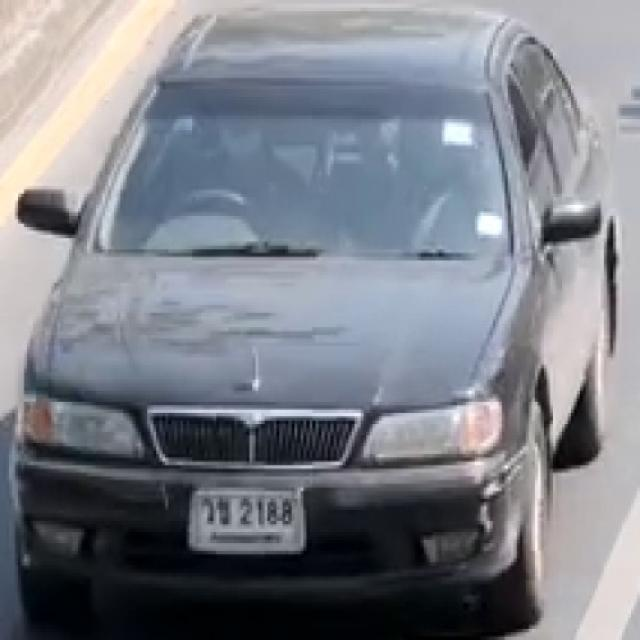plate: (193, 489, 305, 552)
